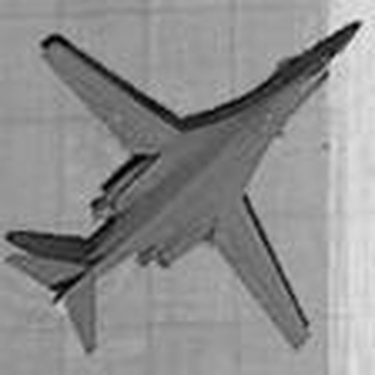airplane: (4, 5, 365, 359)
